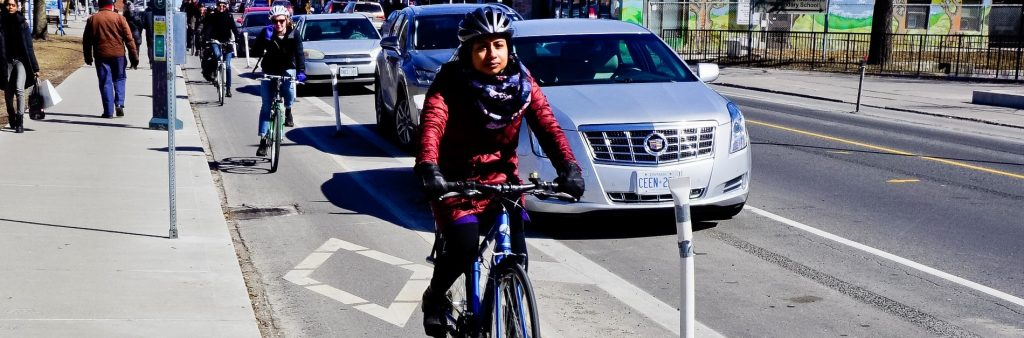commuter: (417, 9, 589, 338), (249, 7, 305, 176)
